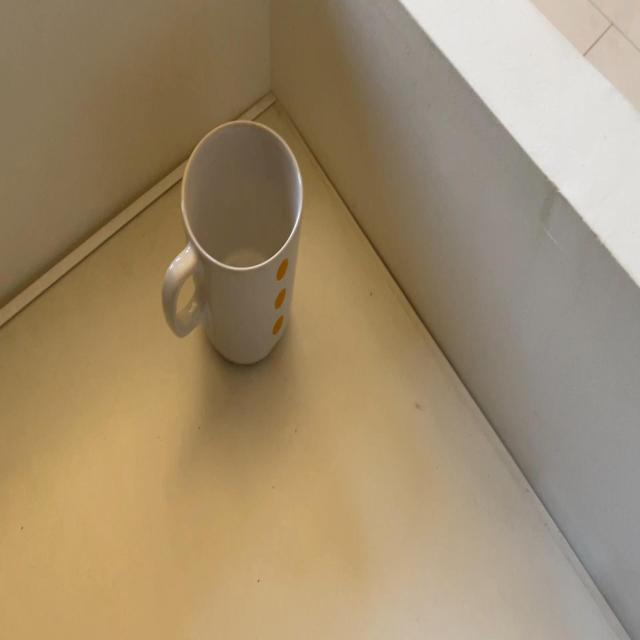cup: (161, 116, 307, 368)
